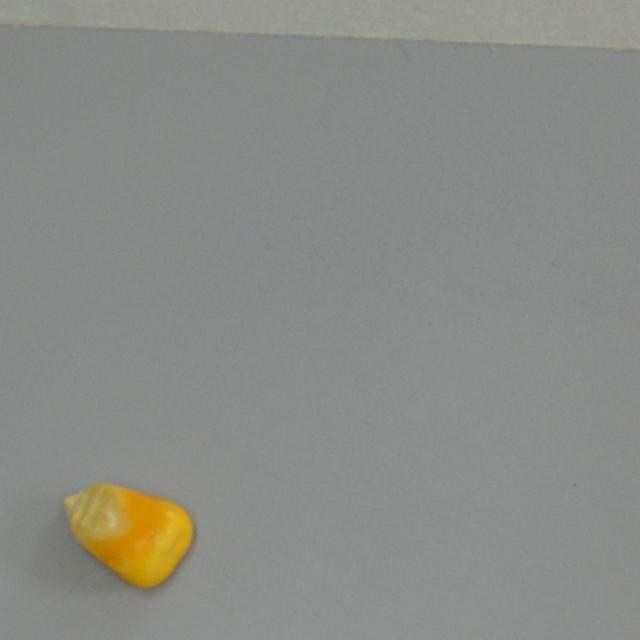entero: (52, 472, 205, 598)
